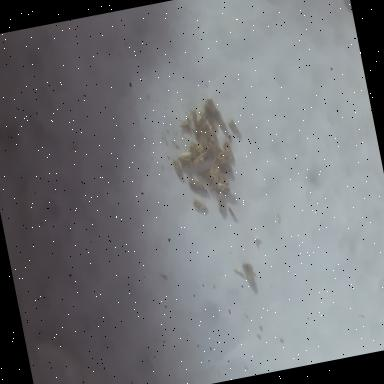pbw: (243, 262, 260, 288), (188, 176, 207, 196), (221, 140, 235, 164), (202, 164, 219, 182), (191, 152, 210, 168), (191, 196, 208, 213), (218, 174, 230, 198), (176, 150, 196, 164), (204, 96, 218, 116), (207, 123, 219, 145), (216, 146, 229, 166), (216, 178, 232, 194), (194, 107, 208, 125), (208, 174, 221, 192), (200, 135, 212, 154), (216, 191, 226, 213), (212, 106, 224, 121), (172, 160, 182, 177), (196, 122, 209, 135)
